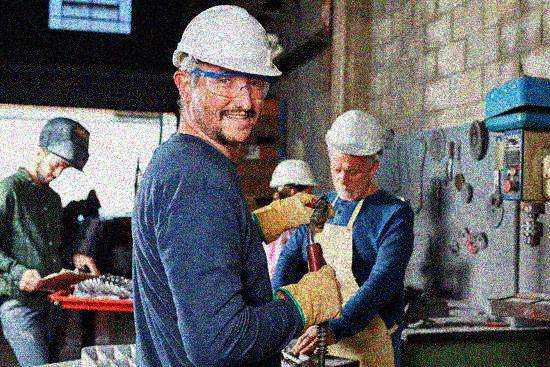helmet: (171, 4, 282, 146), (324, 109, 384, 201), (27, 115, 92, 183), (270, 157, 321, 200)
